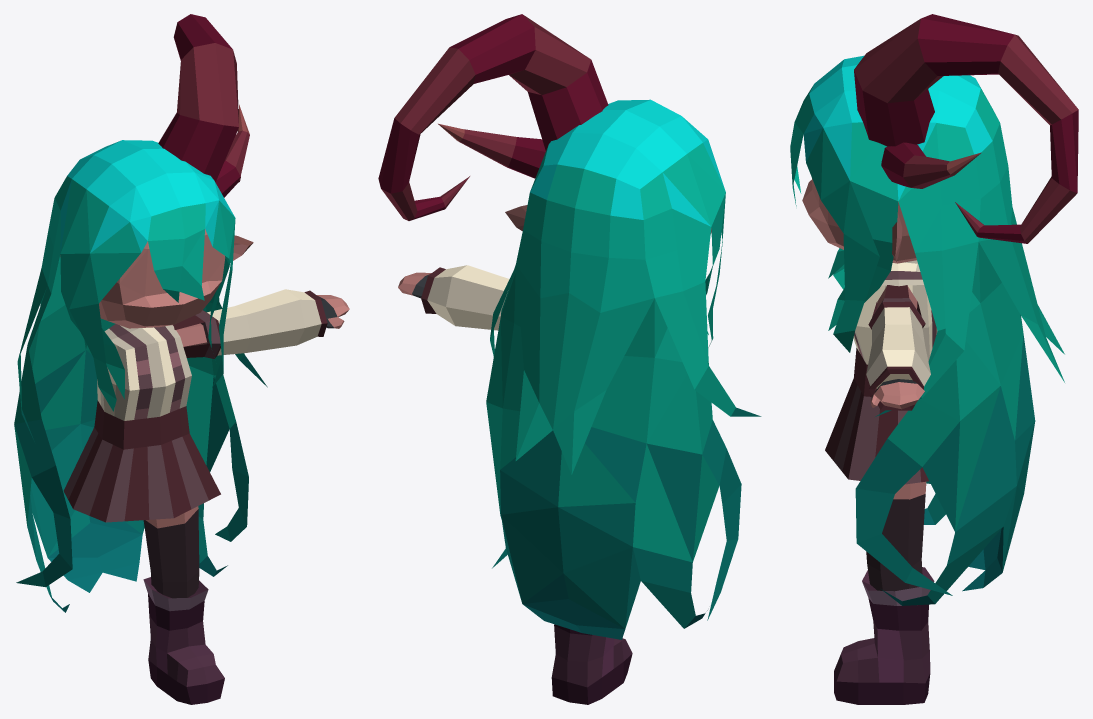
The model's file is sky.glb.
3 views of the same model, side by side, from view 1: azimuth 30°, elevation 25°; view 2: azimuth 150°, elevation 25°; view 3: azimuth 270°, elevation 25° (orthographic). The views are drawn at different scales.
Visible parts, largest first — view 1: Cubo.001, Cube, Cilindro, Cilindro.001, Body.005, Cubo, Cilindro.002; view 2: Cubo.001, Cilindro.001, Cilindro, Body.005, Cilindro.002; view 3: Cubo.001, Cilindro.001, Cilindro, Cube, Body.005, Cilindro.002, Cubo.
Boxes of the visible parts, x1,y1,x2,y2 form: Cubo.001: (14,140,267,612); Cube: (63,324,220,522); Cilindro: (143,506,224,704); Cilindro.001: (158,14,240,182); Body.005: (173,289,349,358); Cubo: (60,229,225,328); Cilindro.002: (215,104,249,197); Cubo.001: (486,99,761,639); Cilindro.001: (378,14,608,220); Cilindro: (551,624,632,704); Body.005: (398,265,509,330); Cilindro.002: (438,123,545,178); Cubo.001: (790,55,1064,605); Cilindro.001: (854,14,1078,243); Cilindro: (834,481,934,704); Cube: (825,260,937,484); Body.005: (866,285,930,410); Cilindro.002: (881,142,981,188); Cubo: (802,178,916,263).
Bounding box in the file's own units: 2.7 × 4.99 × 1.86.
1 material, 1 textured.
